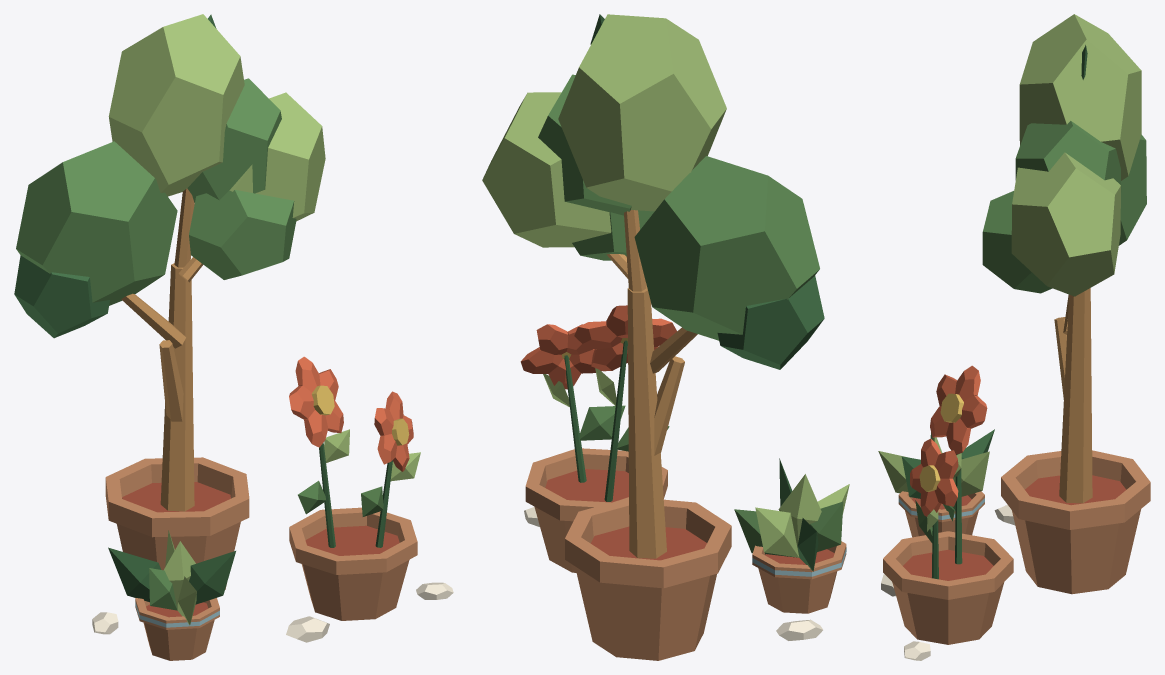
File: left.glb
3 renders of one model, left to right at view 1: azimuth 30°, elevation 25°; view 2: azimuth 150°, elevation 25°; view 3: azimuth 270°, elevation 25°, orthographic. The views are drawn at different scales.
Parts seen in each view (by area): view 1: Faceted tree crown (×6), Tapered pot and thick rim (×3), Static room details (×7), Left tomato flower planter, Left garden tree, Outer tree branch, High tree branch, Left small leaf planter, Tomato flower, Pointed garden leaf; view 2: Faceted tree crown (×6), Tapered pot and thick rim (×3), Static room details (×7), Tomato flower (×2), Left tomato flower planter, Left garden tree, High tree branch, Pointed garden leaf, Left small leaf planter, Outer tree branch; view 3: Faceted tree crown (×5), Tapered pot and thick rim (×3), Static room details (×6), Left tomato flower planter, Left garden tree, Flower head (×2), Tomato flower, Left small leaf planter.
Boxes of the visible parts, left/top/right/bottom form: Faceted tree crown (×6): left=14, top=14, right=325, bottom=338; Tapered pot and thick rim (×3): left=105, top=457, right=417, bottom=660; Static room details (×7): left=92, top=263, right=453, bottom=642; Left tomato flower planter: left=305, top=525, right=399, bottom=555; Left garden tree: left=122, top=482, right=230, bottom=512; Outer tree branch: left=121, top=293, right=185, bottom=348; High tree branch: left=174, top=188, right=194, bottom=267; Left small leaf planter: left=135, top=602, right=219, bottom=627; Tomato flower: left=319, top=442, right=335, bottom=547; Pointed garden leaf: left=324, top=429, right=349, bottom=462; Faceted tree crown (×6): left=482, top=14, right=824, bottom=369; Tapered pot and thick rim (×3): left=525, top=448, right=846, bottom=660; Static room details (×7): left=520, top=285, right=849, bottom=640; Tomato flower (×2): left=564, top=340, right=627, bottom=501; Left tomato flower planter: left=545, top=469, right=628, bottom=502; Left garden tree: left=591, top=526, right=706, bottom=560; High tree branch: left=624, top=210, right=646, bottom=291; Pointed garden leaf: left=580, top=405, right=625, bottom=440; Left small leaf planter: left=752, top=547, right=846, bottom=576; Outer tree branch: left=650, top=327, right=697, bottom=373; Faceted tree crown (×5): left=982, top=14, right=1146, bottom=296; Tapered pot and thick rim (×3): left=883, top=450, right=1150, bottom=644; Static room details (×6): left=878, top=288, right=1092, bottom=660; Left tomato flower planter: left=903, top=549, right=993, bottom=580; Left garden tree: left=1025, top=475, right=1126, bottom=505; Flower head (×2): left=919, top=393, right=963, bottom=491; Tomato flower: left=955, top=453, right=962, bottom=564; Left small leaf planter: left=898, top=495, right=984, bottom=519.
Bounding box in the file's own units: 3.06 × 4.72 × 2.12.
